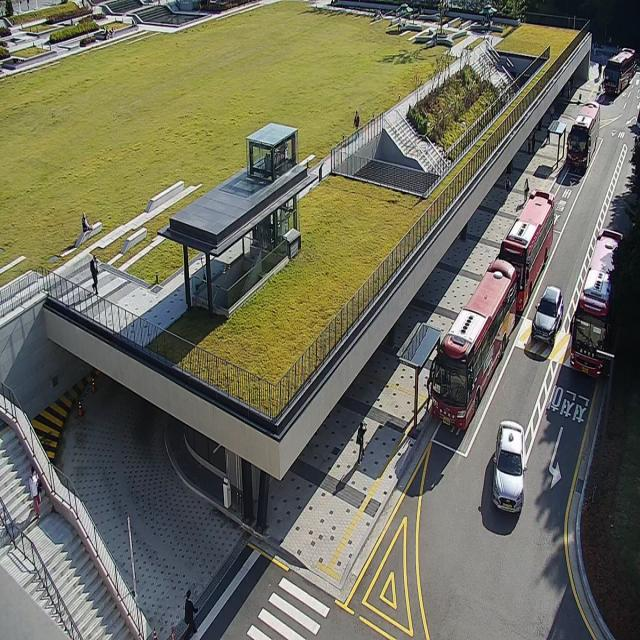queue: (415, 329, 439, 441)
